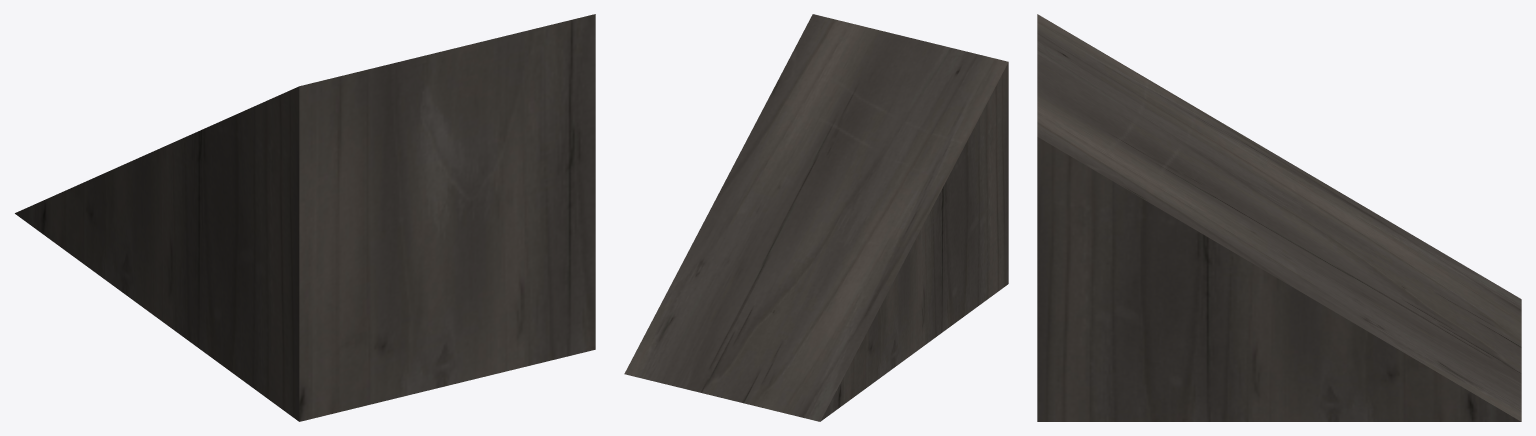
The model's file is SM_WheelChock_00c7465432.fbx.
3 renders of one model, left to right at view 1: azimuth 30°, elevation 25°; view 2: azimuth 150°, elevation 25°; view 3: azimuth 270°, elevation 25°, orthographic. The views are drawn at different scales.
Visible parts, largest first — view 1: SM_WheelChock_00c7465432; view 2: SM_WheelChock_00c7465432; view 3: SM_WheelChock_00c7465432.
Part boxes in pixels (x1,y1,x2,y2): SM_WheelChock_00c7465432: (15, 14, 595, 421); SM_WheelChock_00c7465432: (624, 14, 1008, 421); SM_WheelChock_00c7465432: (1037, 14, 1521, 421).
Size of what is drawn, in the model's own units: 12 by 20 by 13.
Materials: 1 (1 with a texture image).
